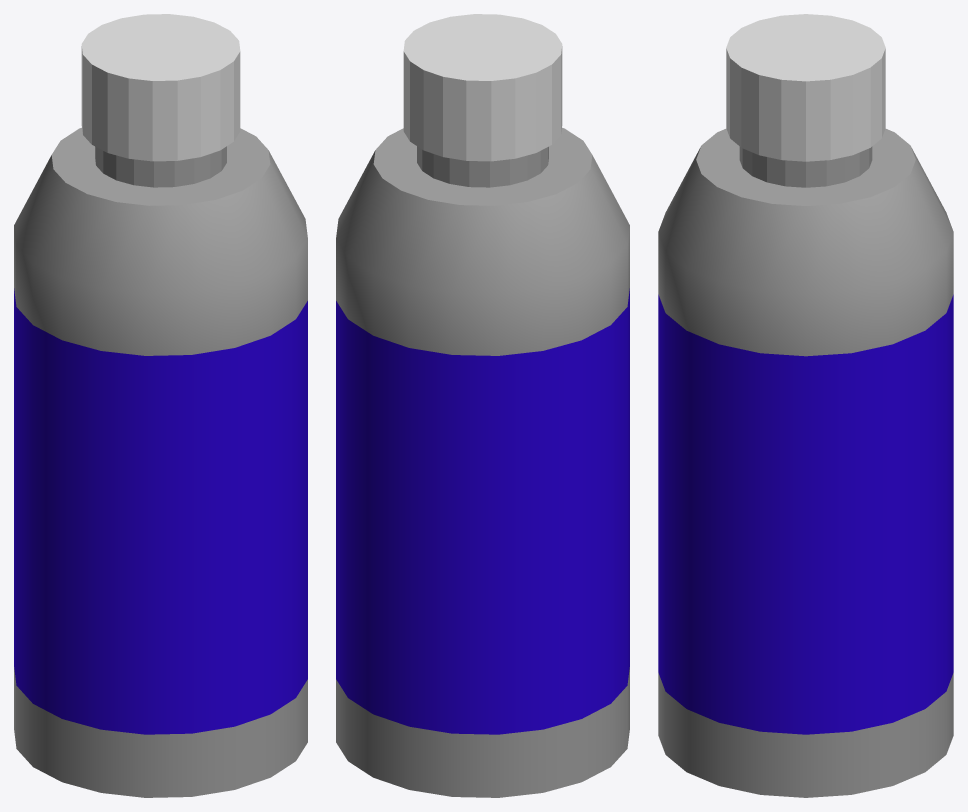
File: Petbotol.fbx
3 renders of one model, left to right at view 1: azimuth 30°, elevation 25°; view 2: azimuth 150°, elevation 25°; view 3: azimuth 270°, elevation 25°, orthographic.
Visible parts, largest first — view 1: pCylinder1; view 2: pCylinder1; view 3: pCylinder1.
Part boxes in pixels (x1,y1,x2,y2): pCylinder1: (14, 14, 307, 797); pCylinder1: (336, 14, 629, 797); pCylinder1: (658, 14, 953, 797).
Size of the model in its own units: 4.47 by 11.48 by 4.47.
